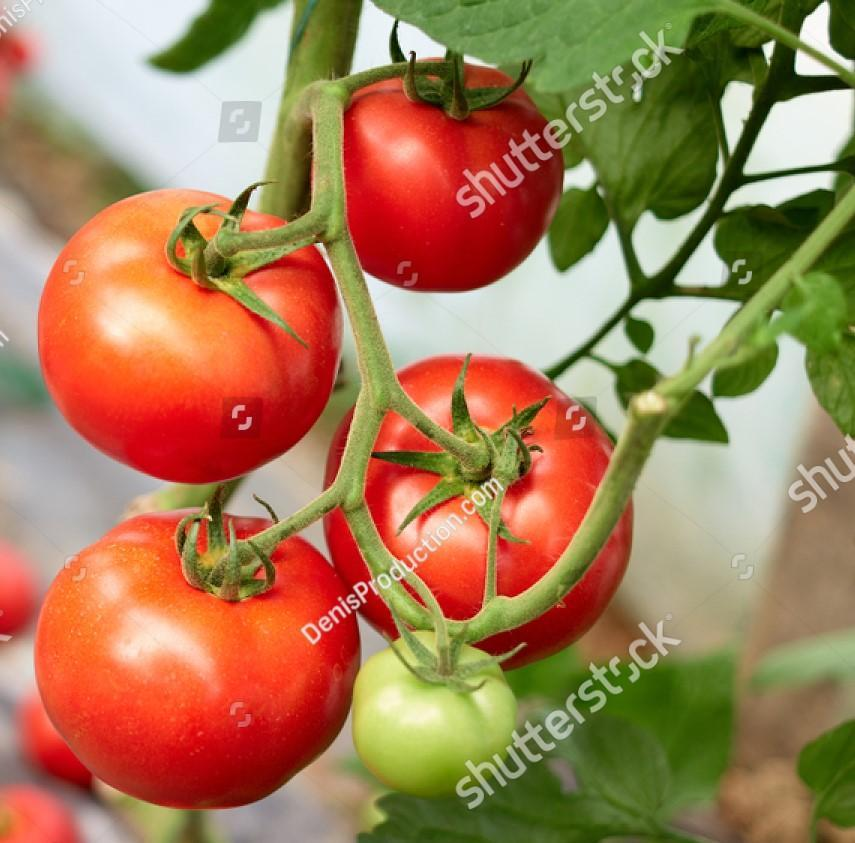healthy-tomato: (43, 514, 365, 816), (37, 189, 342, 485), (362, 356, 629, 674), (316, 53, 569, 297)
